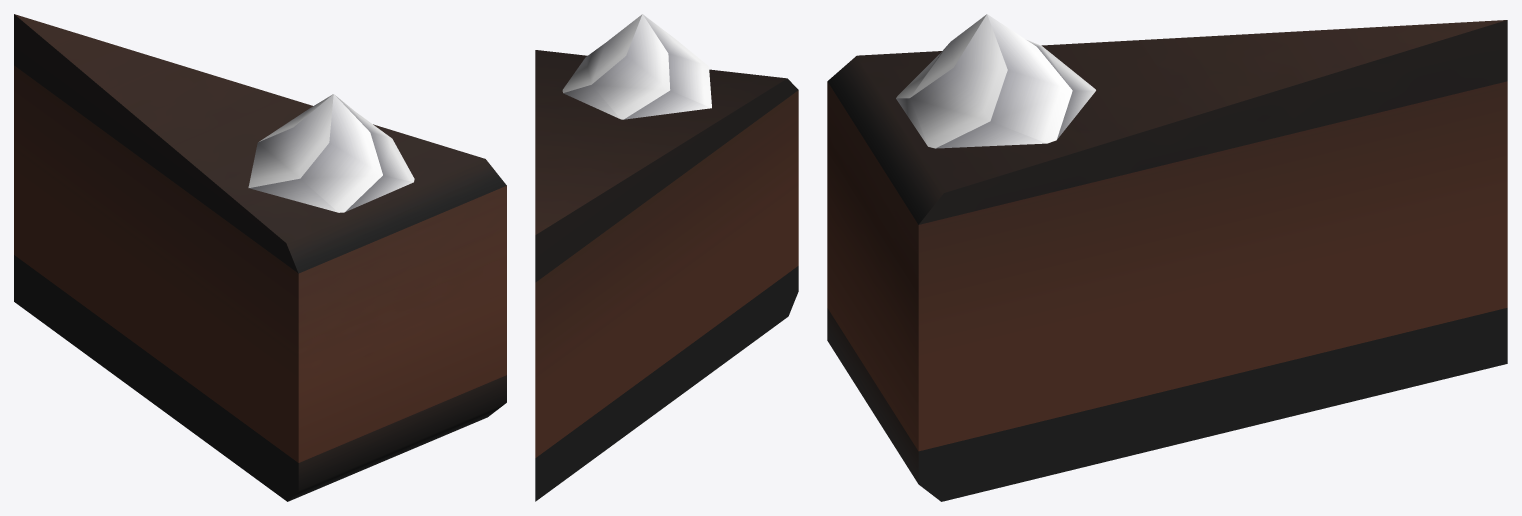
Rendered from m_ChocolateCheeseCake01_Slice.fbx.
The picture shows the model from 3 angles, left to right: view 1: azimuth 30°, elevation 25°; view 2: azimuth 150°, elevation 25°; view 3: azimuth 270°, elevation 25°; orthographic projection. The views are drawn at different scales.
Visible parts, largest first — view 1: m_ChocolateCheeseCake01_Slice; view 2: m_ChocolateCheeseCake01_Slice; view 3: m_ChocolateCheeseCake01_Slice.
Boxes of the visible parts, bbox=[...] form: m_ChocolateCheeseCake01_Slice: bbox=[14, 14, 506, 501]; m_ChocolateCheeseCake01_Slice: bbox=[535, 14, 798, 501]; m_ChocolateCheeseCake01_Slice: bbox=[827, 14, 1507, 501].
Size of the model in its own units: 7 by 9.3 by 14.
